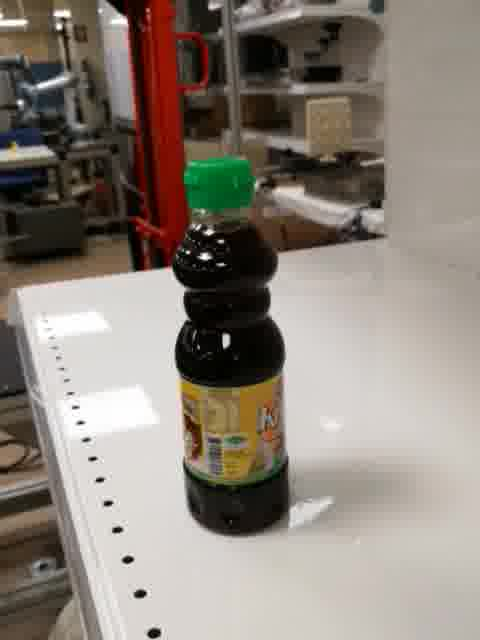cookingoil: (167, 152, 294, 540)
